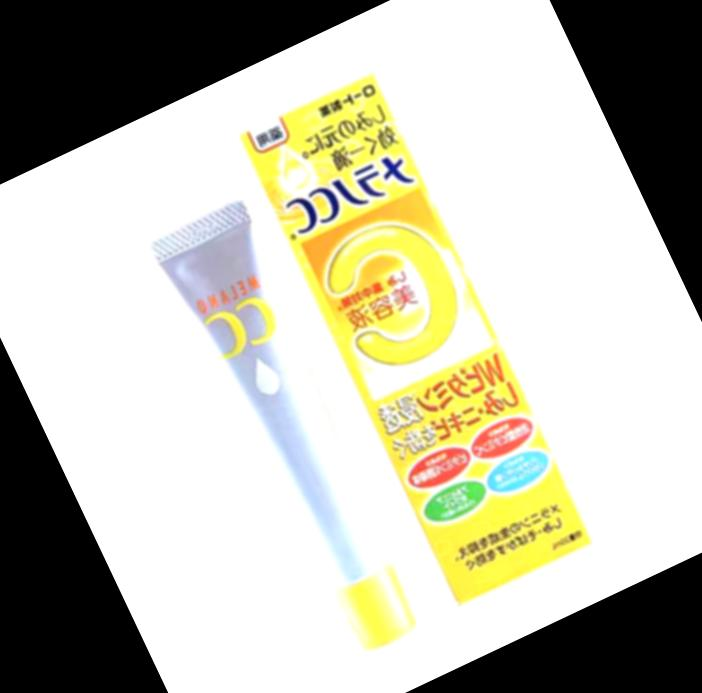cosmetic: (147, 195, 445, 662)
